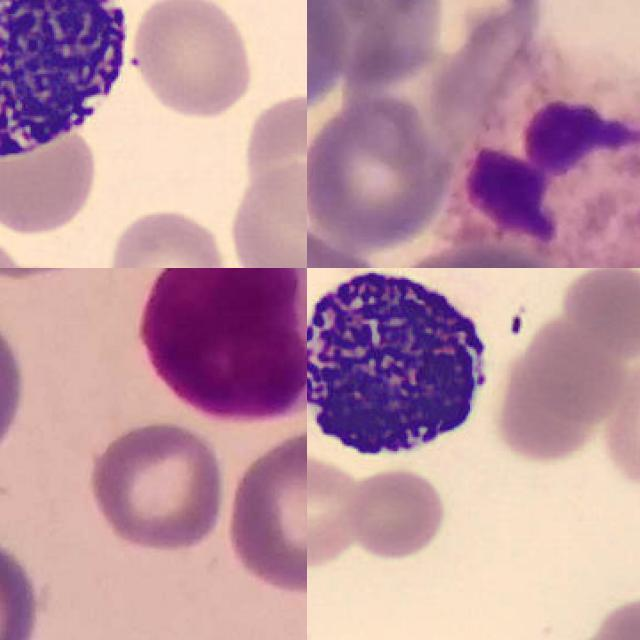Basophil: (307, 268, 502, 470), (0, 0, 142, 195)
Lymphocyte: (137, 268, 307, 424)
Neutrophil: (450, 55, 640, 268)
RBC: (490, 301, 634, 467), (125, 0, 258, 123), (0, 118, 102, 236), (237, 84, 307, 234), (344, 465, 449, 564), (221, 156, 307, 268), (101, 202, 235, 268), (555, 268, 640, 359), (307, 449, 361, 570), (598, 343, 640, 496), (555, 592, 640, 640)
